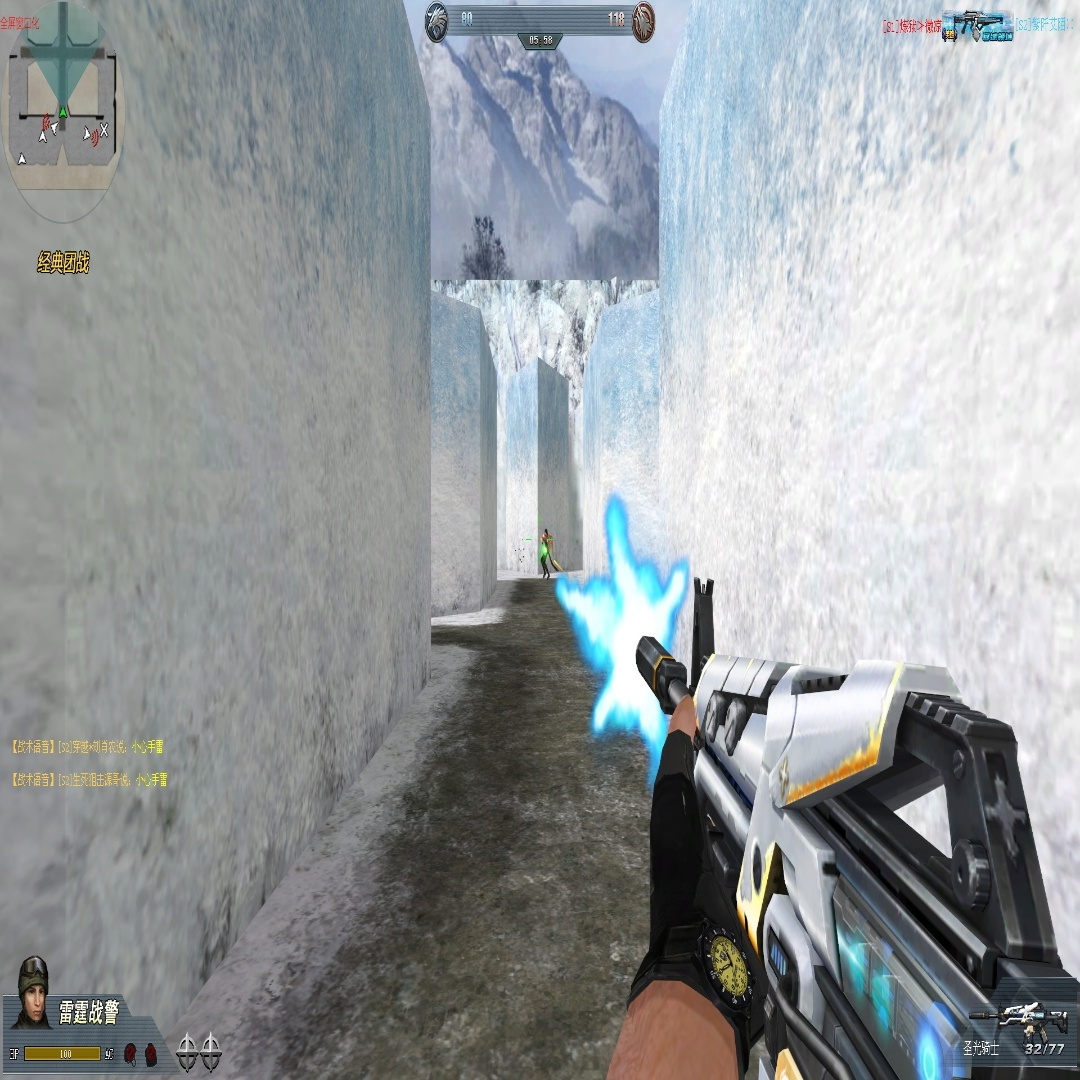t: (540, 528, 550, 580)
